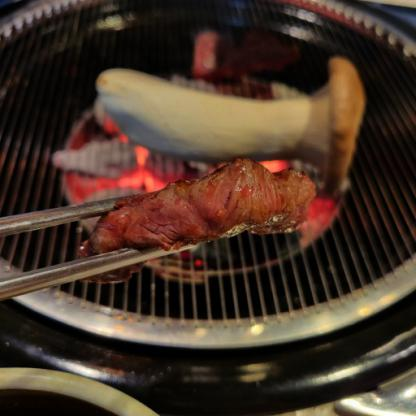Carne: (99, 154, 322, 246)
